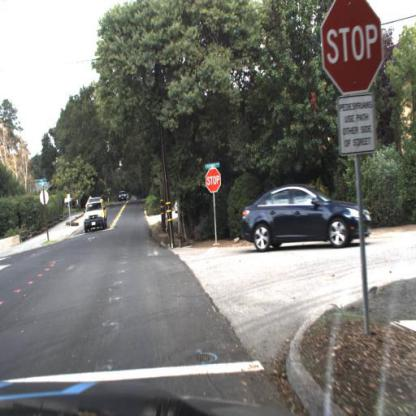car: (229, 179, 377, 260), (84, 197, 111, 238), (118, 187, 128, 203), (119, 188, 128, 201)
